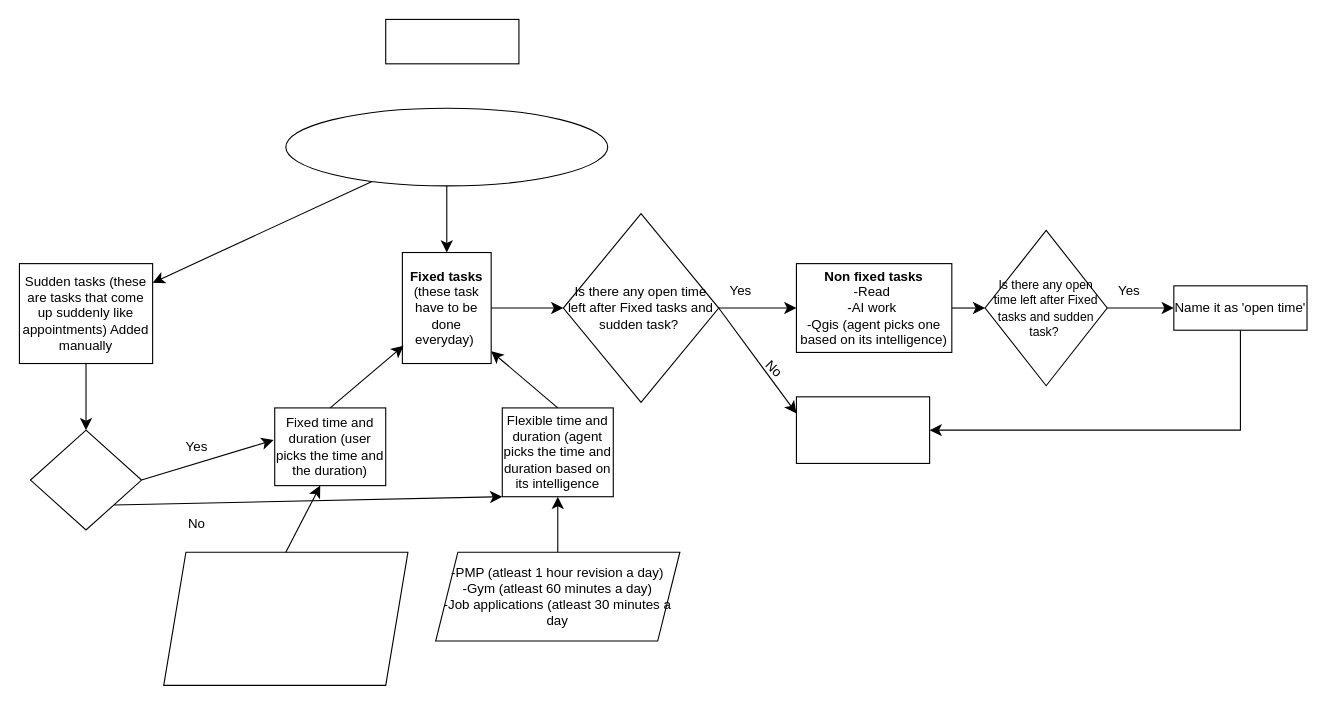
Image size: 1326x705. Some labels were removed from this diagram. Each missing label, with the centre of its shape:
"Deploy schedule" goes at point 862,429.
"Is it a fixed time and duration" goes at point 85,479.
"Log wake up time (rest of day flows from here)" goes at point 446,146.
"Morning: breakfast, walk dog, work" goes at point 285,618.
"Weekdays" goes at point 452,41.
